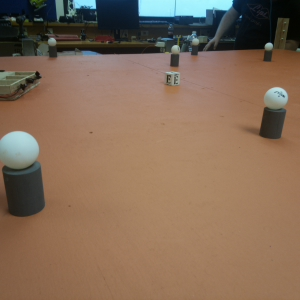blockE: (164, 72, 178, 86)
corner: (274, 17, 289, 51)
obstacle: (1, 131, 49, 220), (257, 87, 290, 143), (168, 45, 182, 69), (262, 42, 274, 63), (48, 38, 57, 60), (191, 38, 199, 57)
side: (1, 71, 42, 99)
